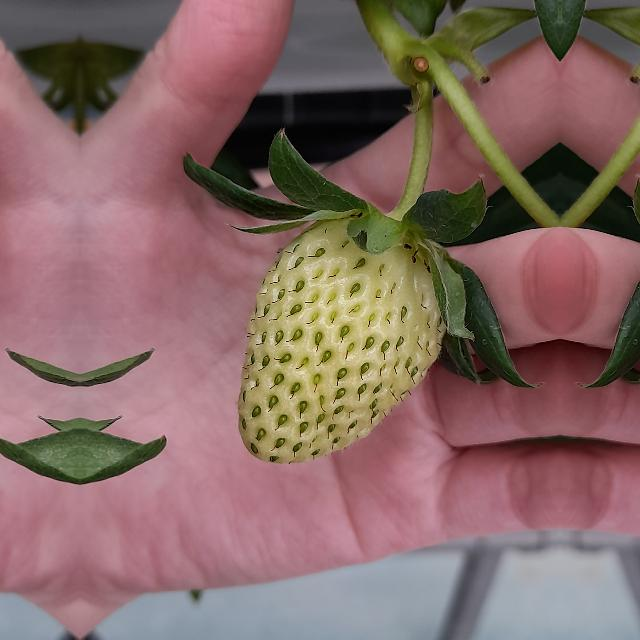Health_25: (238, 218, 446, 462)
